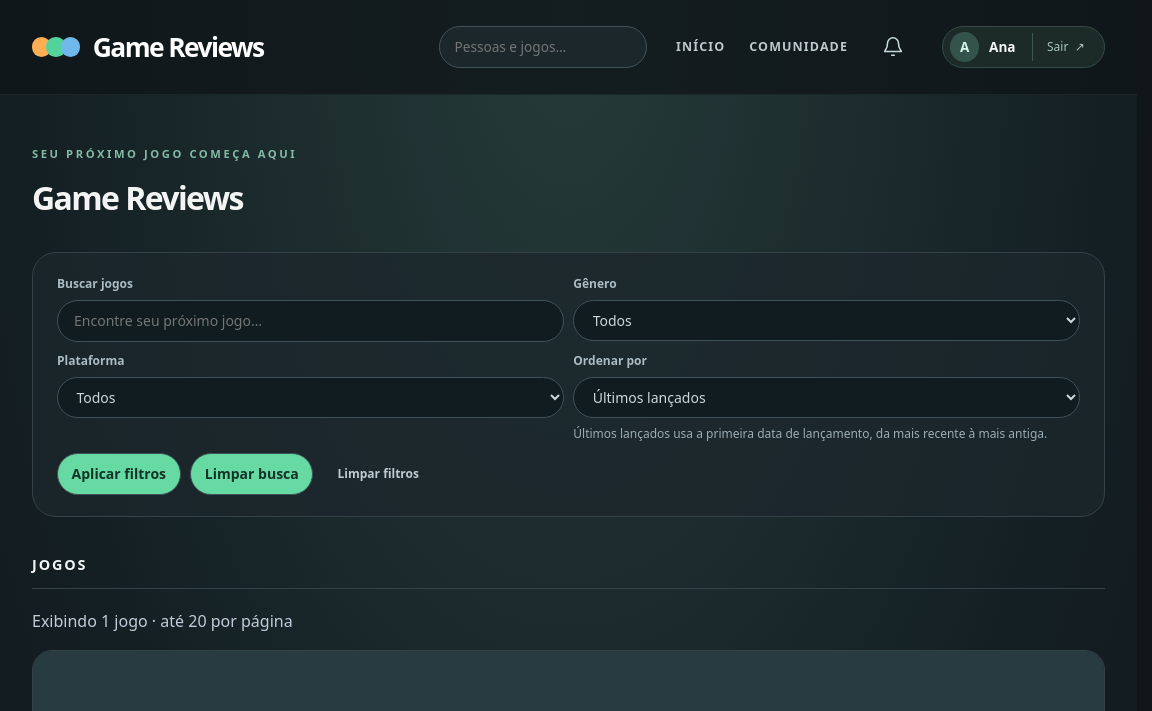
Test: Início sem seções favoritas/feed; estrelas usam uma leitura compartilhada: {"dashboard":true,"login":false,"empty":true}
The width and height of the screenshot is (1152, 711).
Expected: the element "Favoritos" is not shown
Expected: the heading "Favoritos" is not shown
Step 1. Click the link with aria-label "Meu perfil" → (965, 47), box [950, 32, 1016, 62]
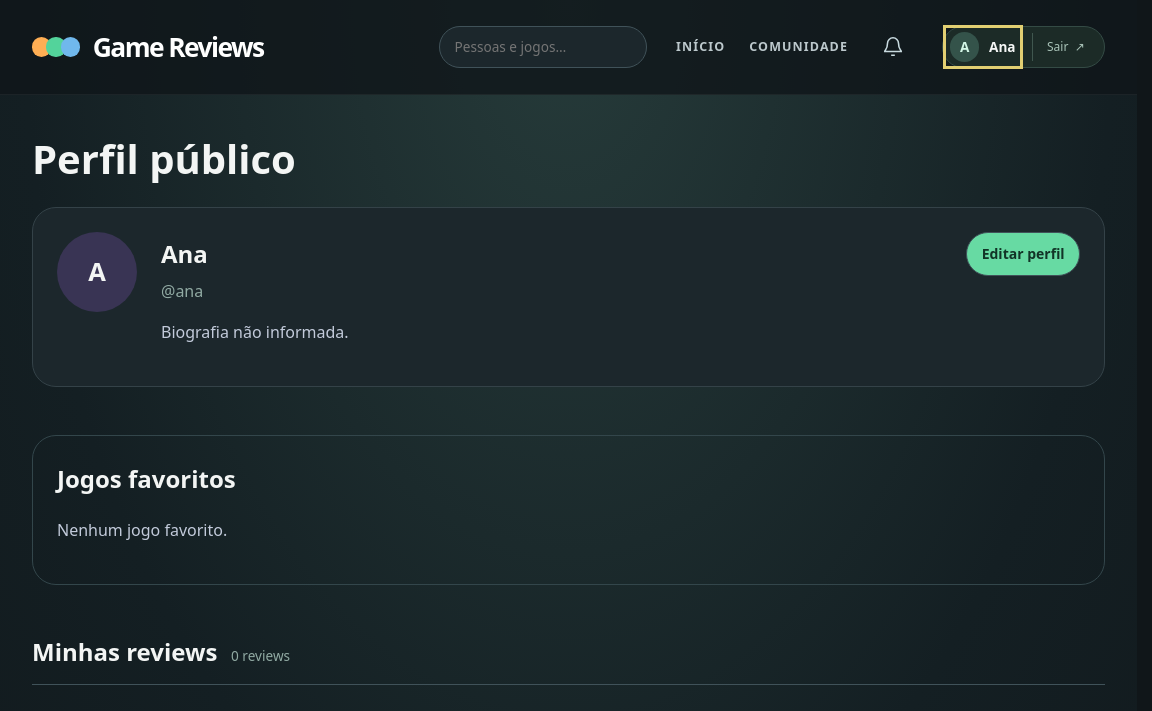
Now the text "Nenhum jogo favorito." is shown, box [57, 519, 227, 541]
